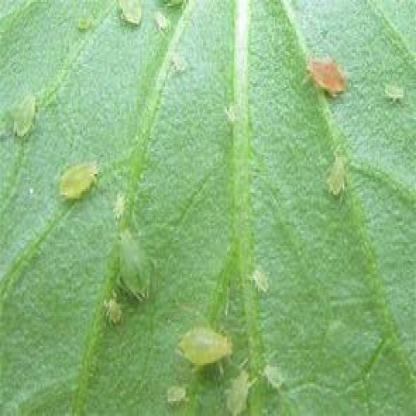aphid: (110, 220, 157, 312), (176, 318, 236, 377), (303, 46, 351, 106), (217, 357, 265, 416), (52, 156, 103, 201), (10, 94, 45, 144), (327, 151, 352, 205), (258, 355, 290, 394), (248, 264, 277, 302), (104, 185, 134, 221), (110, 2, 145, 32), (98, 297, 125, 330), (381, 77, 406, 110), (66, 9, 96, 35), (168, 47, 192, 79), (161, 380, 188, 408), (147, 11, 174, 36)
